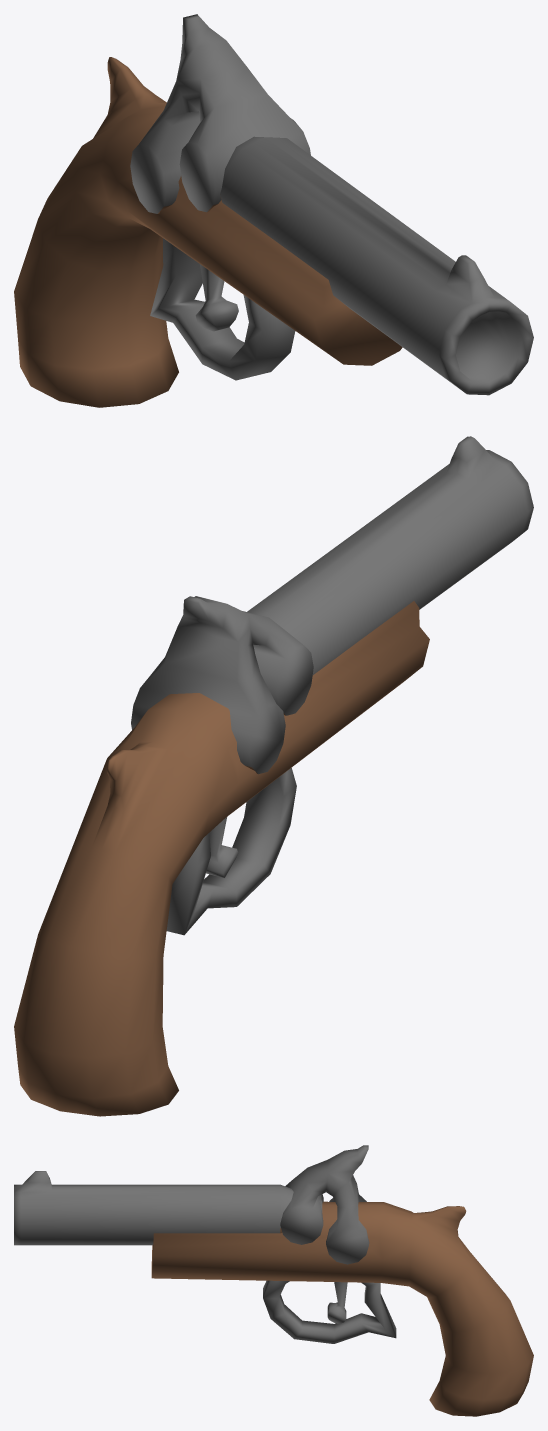
The model's file is Gun-Model.fbx.
3 renders of one model, top to bottom at view 1: azimuth 30°, elevation 25°; view 2: azimuth 150°, elevation 25°; view 3: azimuth 270°, elevation 25°, orthographic. The views are drawn at different scales.
Visible parts, largest first — view 1: Куб; view 2: Куб; view 3: Куб.
Boxes of the visible parts, x1,y1,x2,y2 form: Куб: [14, 14, 533, 407]; Куб: [14, 436, 533, 1116]; Куб: [14, 1145, 533, 1416].
Size of the model in its own units: 12.38 by 37.32 by 68.15.
